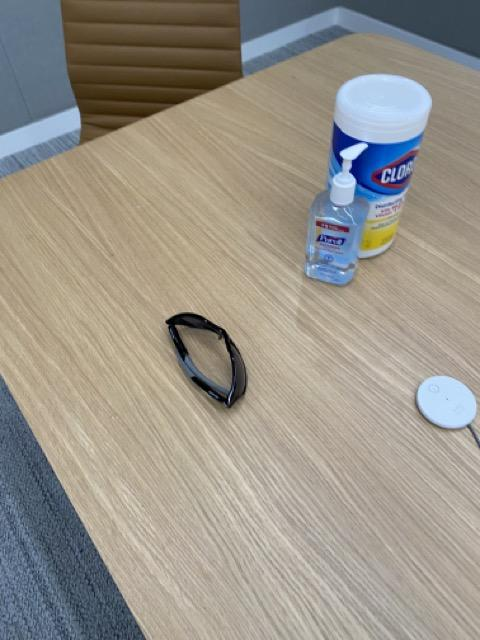Sunglasses: (166, 310, 249, 409)
